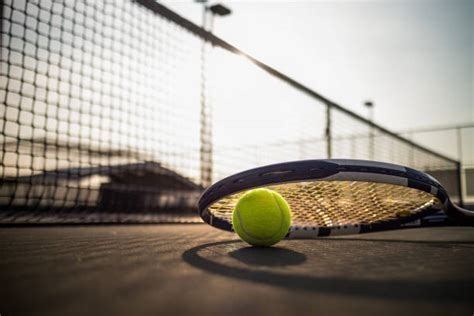tennis_ball: (231, 187, 292, 248)
